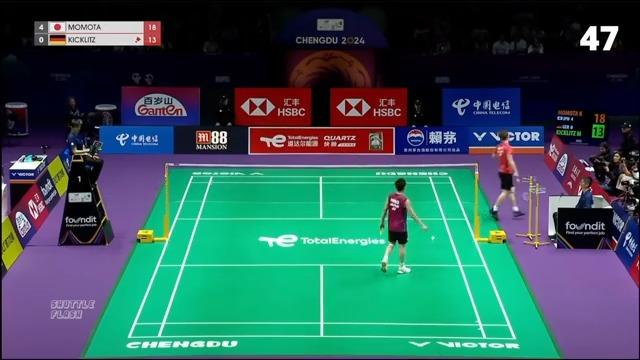Shuttlecock: (431, 234, 437, 240)
